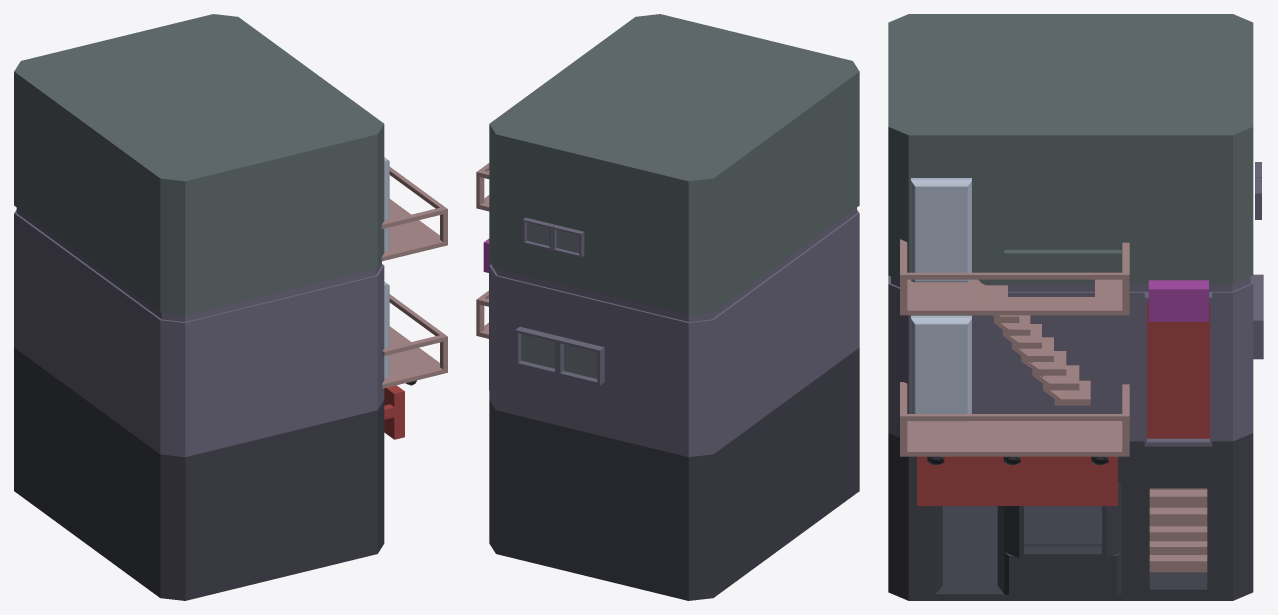
The model's file is 4_Main.fbx.
The picture shows the model from 3 angles, left to right: view 1: azimuth 30°, elevation 25°; view 2: azimuth 150°, elevation 25°; view 3: azimuth 270°, elevation 25°; orthographic projection. The views are drawn at different scales.
Visible parts, largest first — view 1: pasted___pCube1, pasted___pCube6, pasted___pCube7, pasted___pCube2; view 2: pasted___pCube1, pasted___pCube35, pasted___pCube36, pasted___pCube34, pasted___pCube12, pasted___pCube7; view 3: pasted___pCube1, pasted___pCube7, pasted___pCube6, pasted___pCube2, pasted__pasted__pCube112, pasted__pasted__pCube113, pasted___pCube3, pasted___pCube13, pasted___pCube36.
Boxes of the visible parts, bbox=[...] form: pasted___pCube1: bbox=[14, 14, 384, 600]; pasted___pCube6: bbox=[381, 294, 447, 388]; pasted___pCube7: bbox=[381, 167, 447, 261]; pasted___pCube2: bbox=[384, 385, 404, 439]; pasted___pCube1: bbox=[489, 14, 859, 600]; pasted___pCube35: bbox=[557, 337, 604, 385]; pasted___pCube36: bbox=[515, 326, 561, 374]; pasted___pCube34: bbox=[552, 225, 584, 257]; pasted___pCube12: bbox=[522, 217, 554, 250]; pasted___pCube7: bbox=[476, 163, 489, 211]; pasted___pCube1: bbox=[888, 14, 1253, 600]; pasted___pCube7: bbox=[900, 239, 1129, 405]; pasted___pCube6: bbox=[900, 382, 1129, 456]; pasted___pCube2: bbox=[917, 456, 1117, 505]; pasted__pasted__pCube112: bbox=[911, 315, 971, 421]; pasted__pasted__pCube113: bbox=[911, 178, 971, 282]; pasted___pCube3: bbox=[1149, 488, 1207, 572]; pasted___pCube13: bbox=[1148, 280, 1208, 321]; pasted___pCube36: bbox=[1253, 297, 1263, 359].
Size of the model in its own units: 7.07 by 10 by 7.3.
